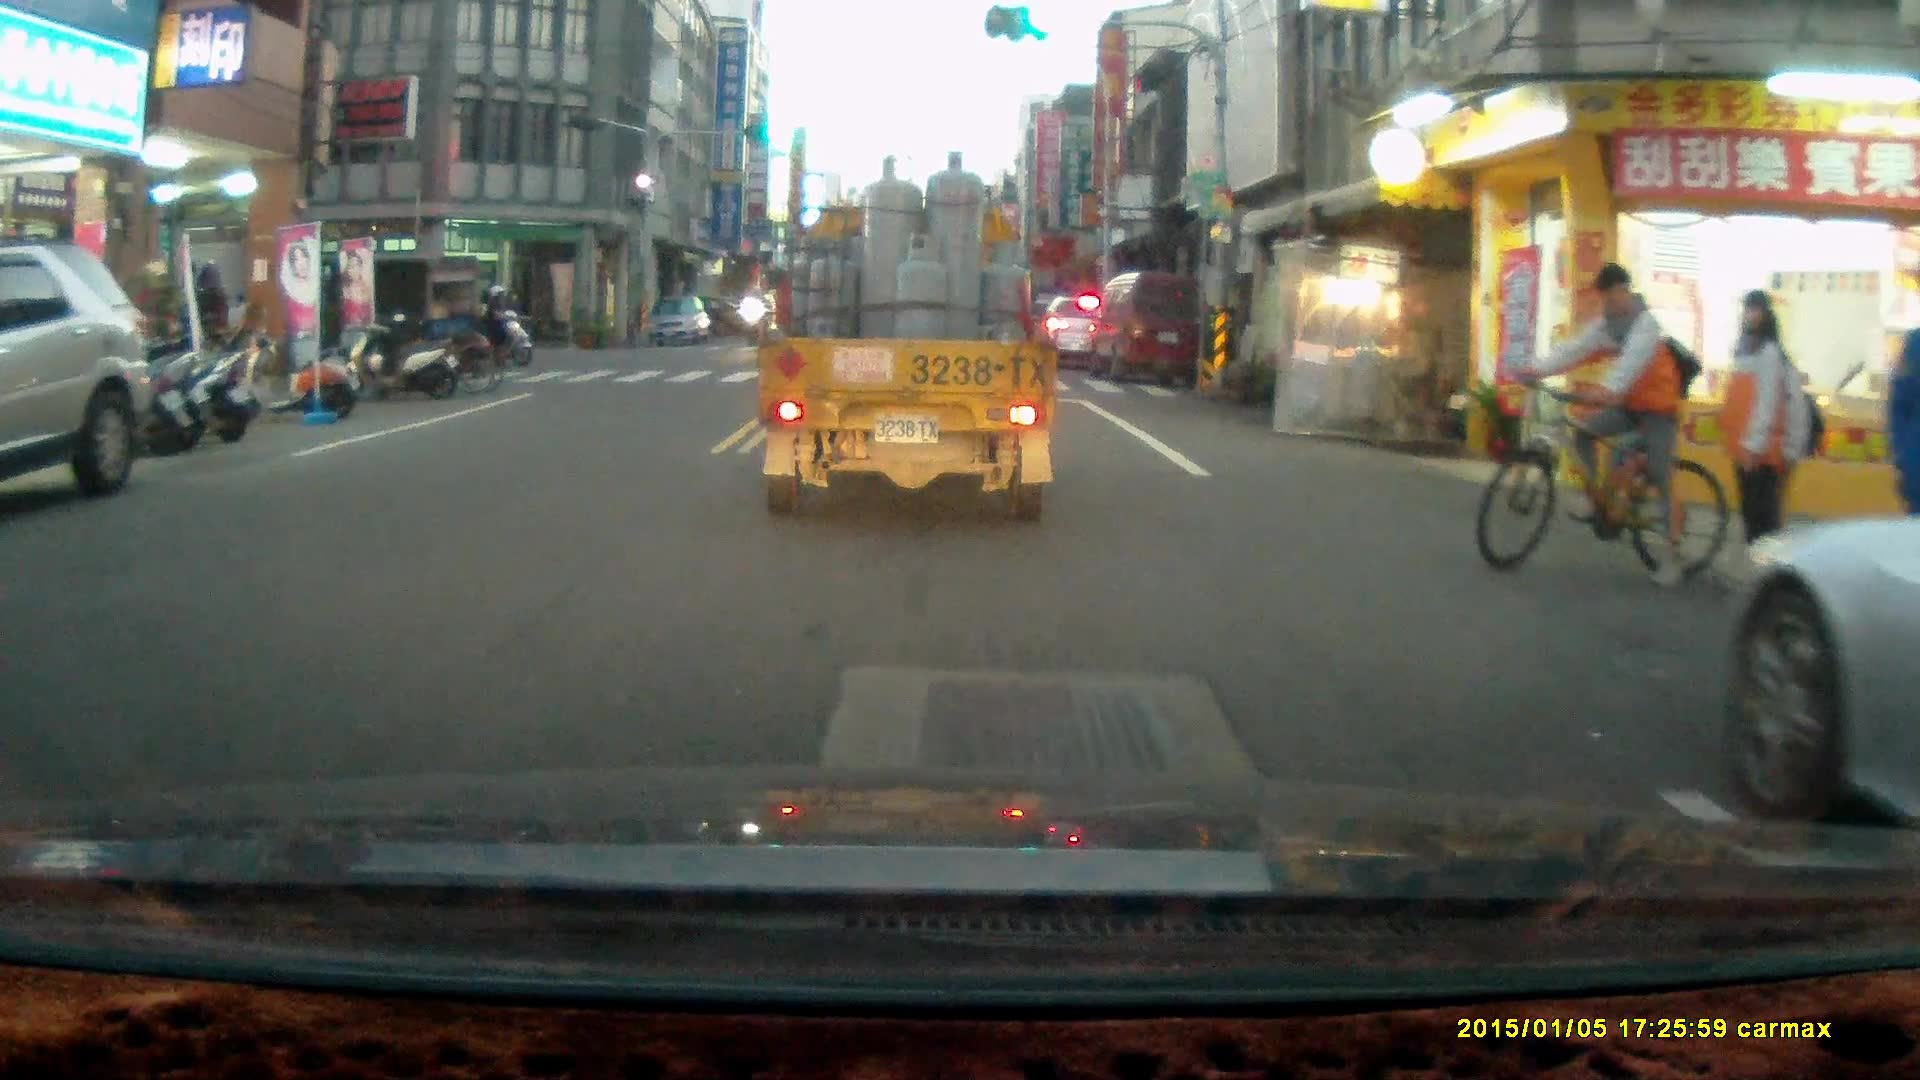pedestrian: (1715, 287, 1791, 597), (193, 263, 229, 373)
rider: (1476, 263, 1726, 591), (461, 282, 528, 369)
vehicle: (753, 161, 1043, 520), (1717, 515, 1920, 828), (1, 238, 159, 503), (316, 247, 488, 368), (1089, 270, 1210, 387), (1040, 293, 1109, 367), (645, 294, 713, 350)
